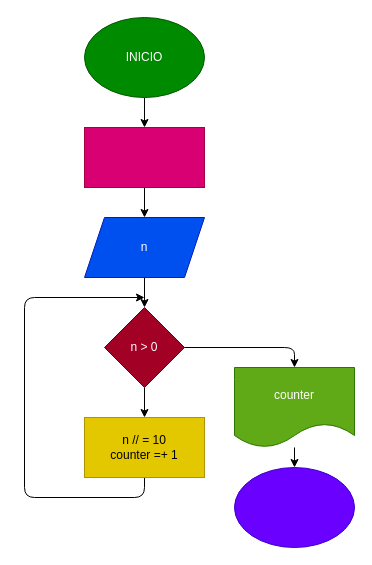
Image size: 372x565. Some labels were removed from this diagram. The box of each missing label's shape, as (x1, y1, x2, y2) in pixels:
counter = 0: (84, 126, 204, 188)
FIN: (234, 466, 354, 548)
